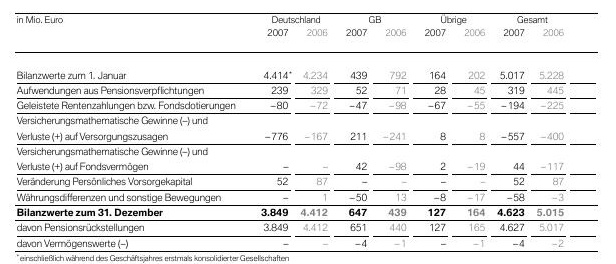table: (0, 0, 616, 264)
